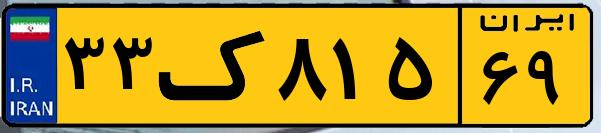1: (330, 28, 385, 110)
3: (57, 26, 110, 100), (110, 28, 158, 98)
5: (385, 28, 445, 110)
6: (475, 38, 525, 113)
8: (270, 28, 330, 110)
9: (525, 38, 570, 115)
ک: (158, 12, 270, 120)
